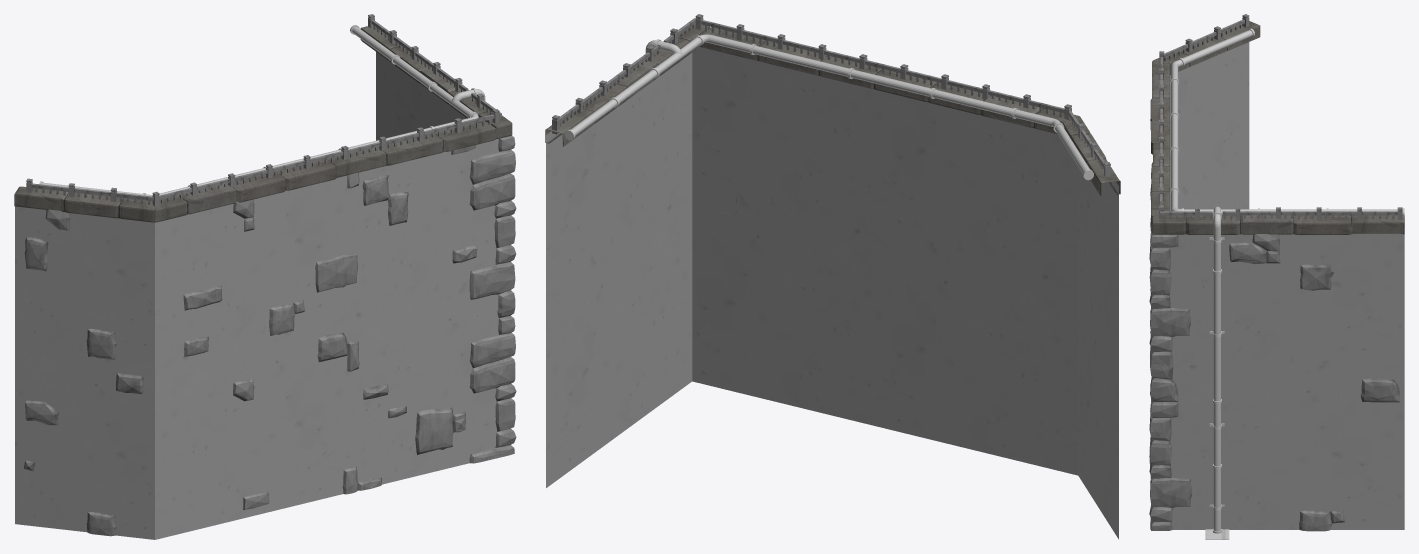
Rendered from SM_ENV_KNVLLG_Wall_07.mo.fbx.
The picture shows the model from 3 angles, left to right: view 1: azimuth 30°, elevation 25°; view 2: azimuth 150°, elevation 25°; view 3: azimuth 270°, elevation 25°; orthographic projection. The views are drawn at different scales.
Visible parts, largest first — view 1: SM_ENV_KNVLLG_Wall_07.mo; view 2: SM_ENV_KNVLLG_Wall_07.mo; view 3: SM_ENV_KNVLLG_Wall_07.mo.
Boxes of the visible parts, x1,y1,x2,y2 form: SM_ENV_KNVLLG_Wall_07.mo: [14, 14, 516, 539]; SM_ENV_KNVLLG_Wall_07.mo: [545, 14, 1120, 539]; SM_ENV_KNVLLG_Wall_07.mo: [1149, 14, 1404, 539].
Bounding box in the file's own units: 21.04 × 14.73 × 10.69.
